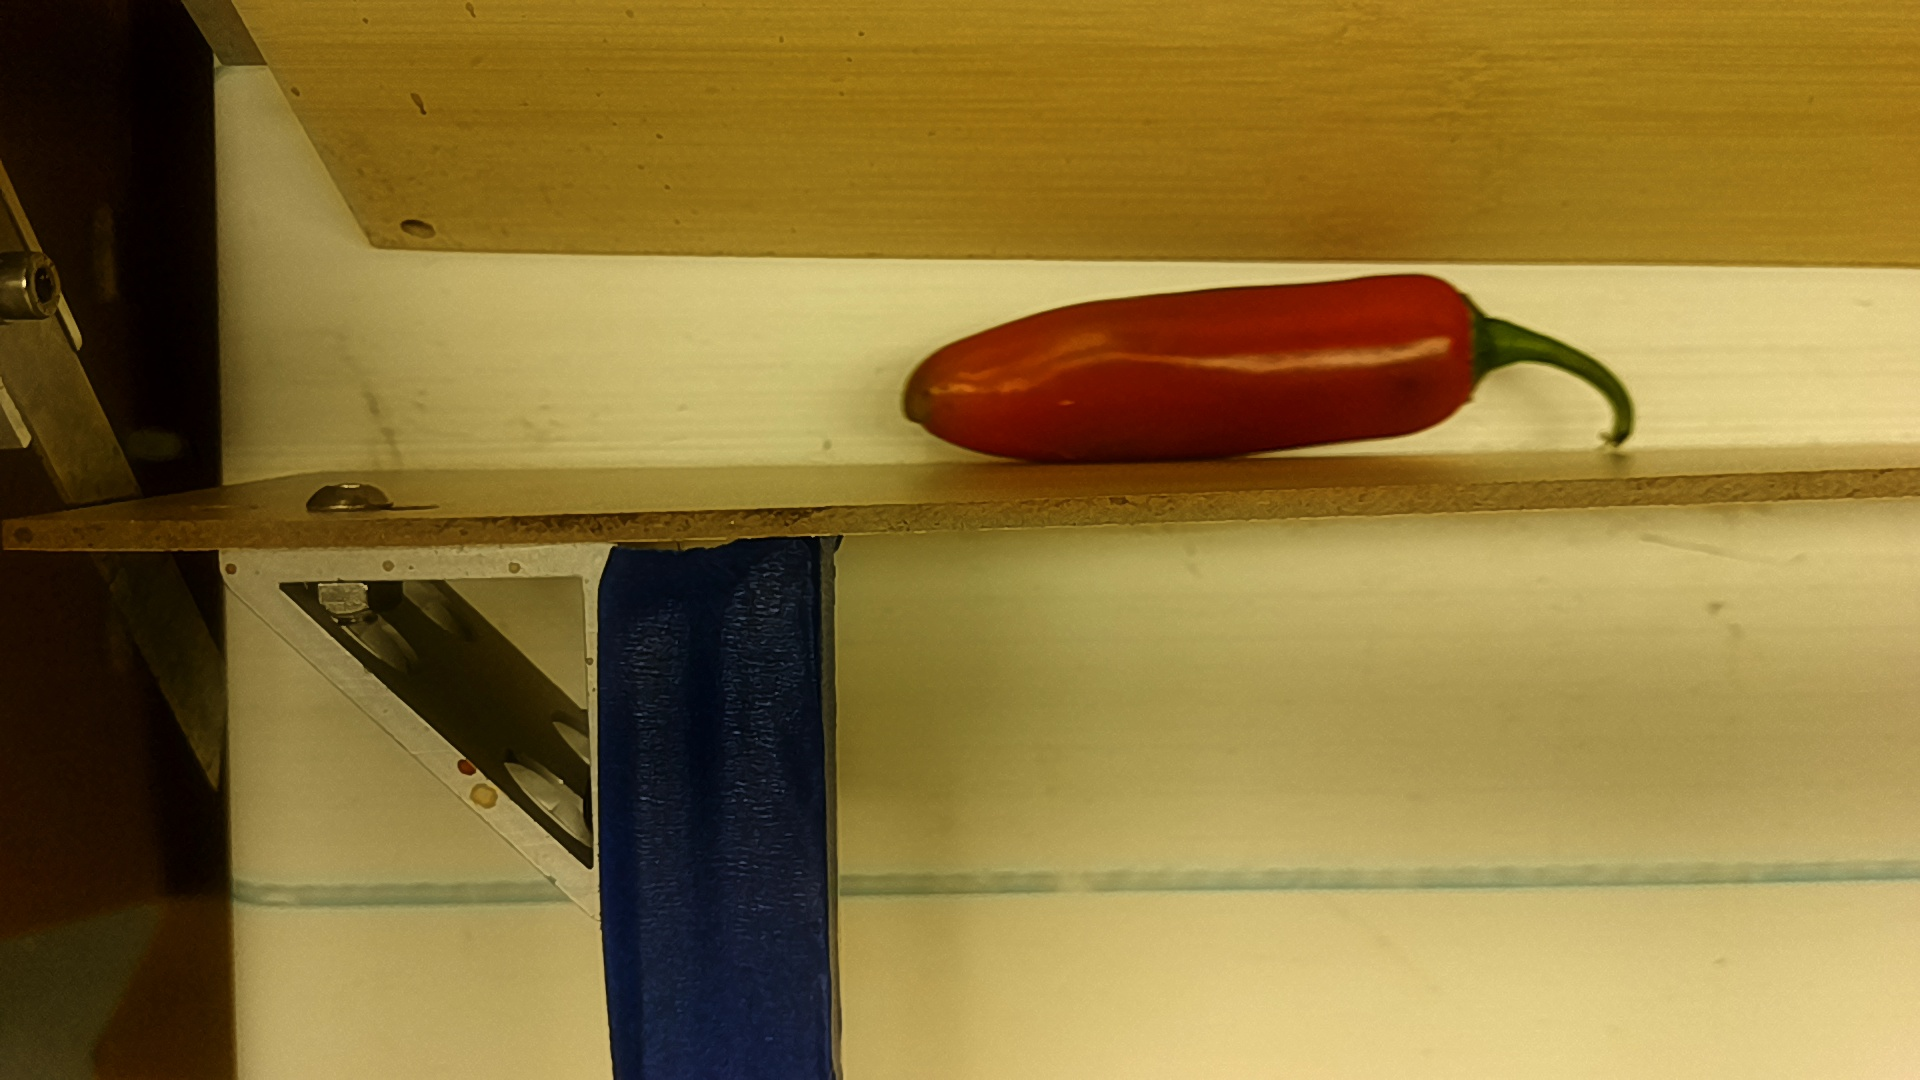Cut Point: (1425, 262, 1505, 426)
